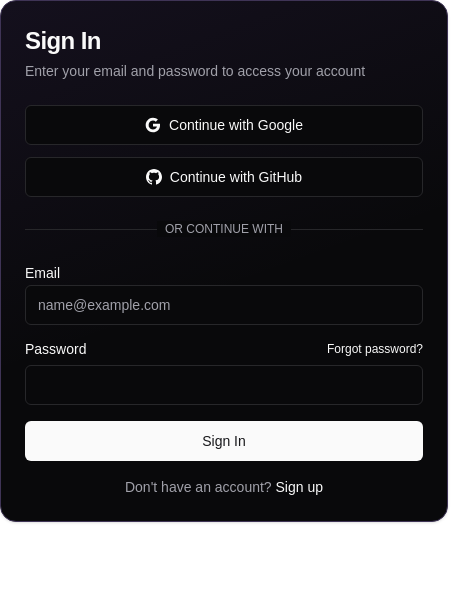
Scenario: LoginForm › shows generic error on network failure
The width and height of the screenshot is (465, 600).
Type "test@test.com" into the field labelled "Email" at (224, 305), box [25, 285, 423, 325]
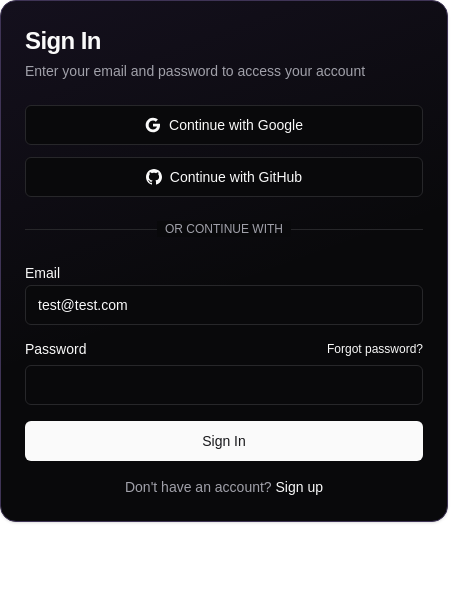
Type "password123" into the password field labelled "Password" at (224, 385), box [25, 365, 423, 405]
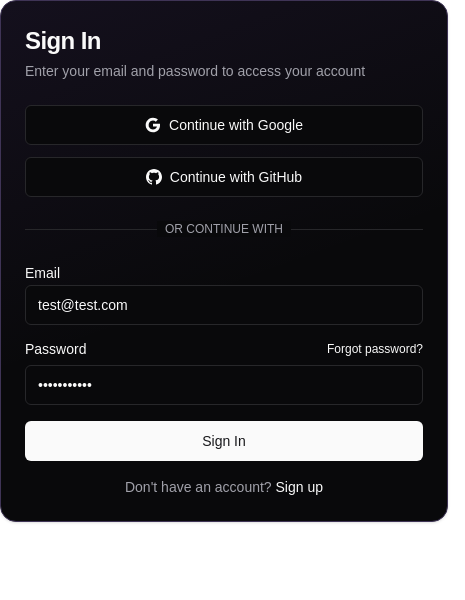
Click the button "Sign In" at (224, 441), box [25, 421, 423, 461]
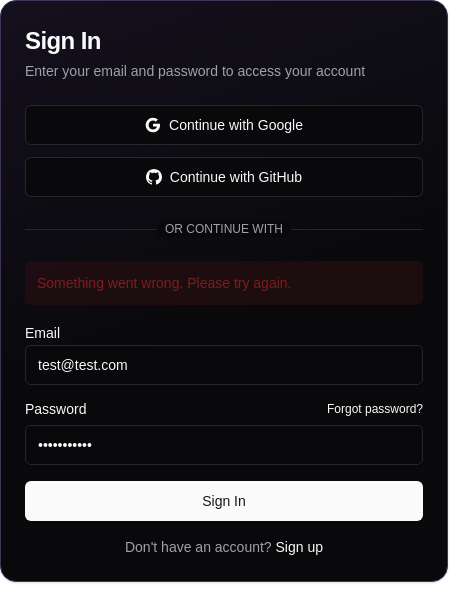
Expected: the text "Something went wrong. Please try again." is shown, [25, 261, 423, 305]
